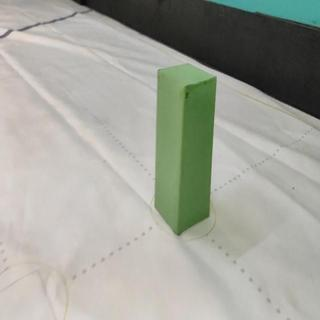greenbox: (153, 61, 218, 236)
